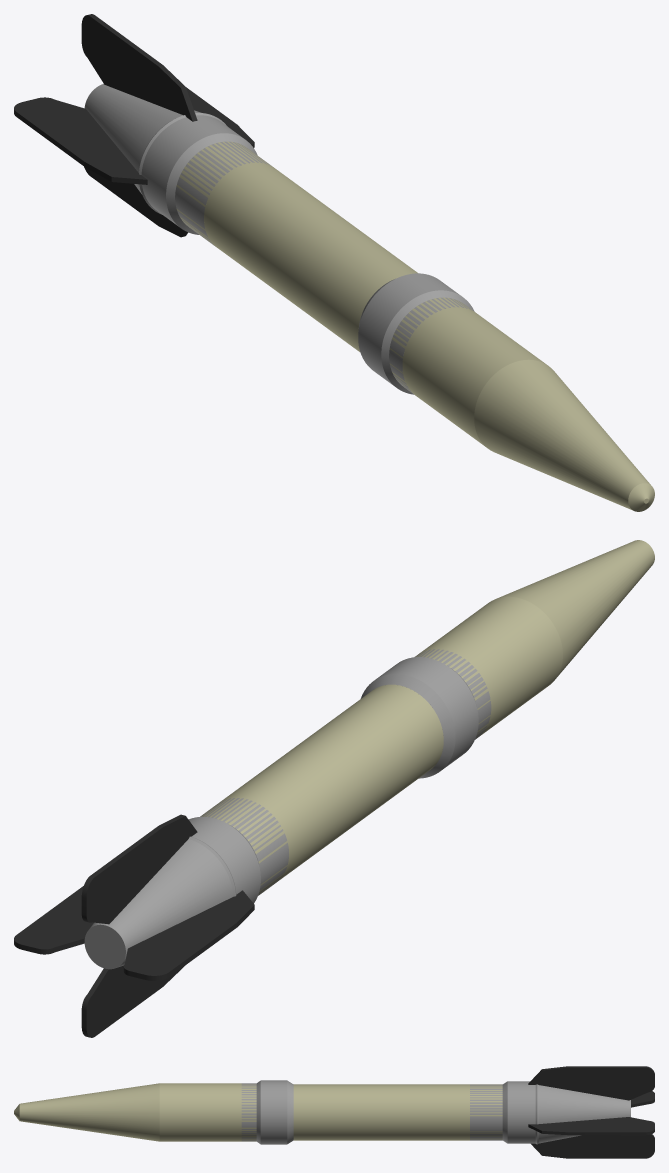
3 views of the same model, one above another, from view 1: azimuth 30°, elevation 25°; view 2: azimuth 150°, elevation 25°; view 3: azimuth 270°, elevation 25° (orthographic). The views are drawn at different scales.
Visible parts, largest first — view 1: shaft, rear_sleeve, collar, fin, fin.003, core, fin.002; view 2: shaft, core, collar, rear_sleeve, fin, fin.003, fin.002, fin.001; view 3: shaft, rear_sleeve, fin, collar, core, fin.002, fin.001, fin.003.
Boxes of the visible parts, box(x1,y1,x2,y2) form: shaft: box(176, 141, 654, 511); rear_sleeve: box(139, 113, 270, 246); collar: box(358, 273, 474, 394); fin: box(81, 14, 197, 121); fin.003: box(14, 97, 147, 184); core: box(84, 84, 201, 193); fin.002: box(84, 166, 188, 237); shaft: box(200, 540, 654, 895); core: box(84, 839, 233, 969); collar: box(360, 649, 491, 778); rear_sleeve: box(188, 798, 288, 903); fin: box(81, 814, 197, 924); fin.003: box(123, 890, 254, 980); fin.002: box(81, 965, 184, 1037); fin.001: box(14, 886, 93, 954); shaft: box(14, 1083, 502, 1141); rear_sleeve: box(470, 1081, 538, 1144); fin: box(528, 1066, 654, 1100); collar: box(241, 1080, 293, 1144); core: box(538, 1085, 630, 1143); fin.002: box(531, 1134, 654, 1158); fin.001: box(528, 1117, 654, 1135); fin.003: box(631, 1091, 654, 1107).
Bounding box in the file's own units: 0.1254 × 0.1254 × 0.8.
